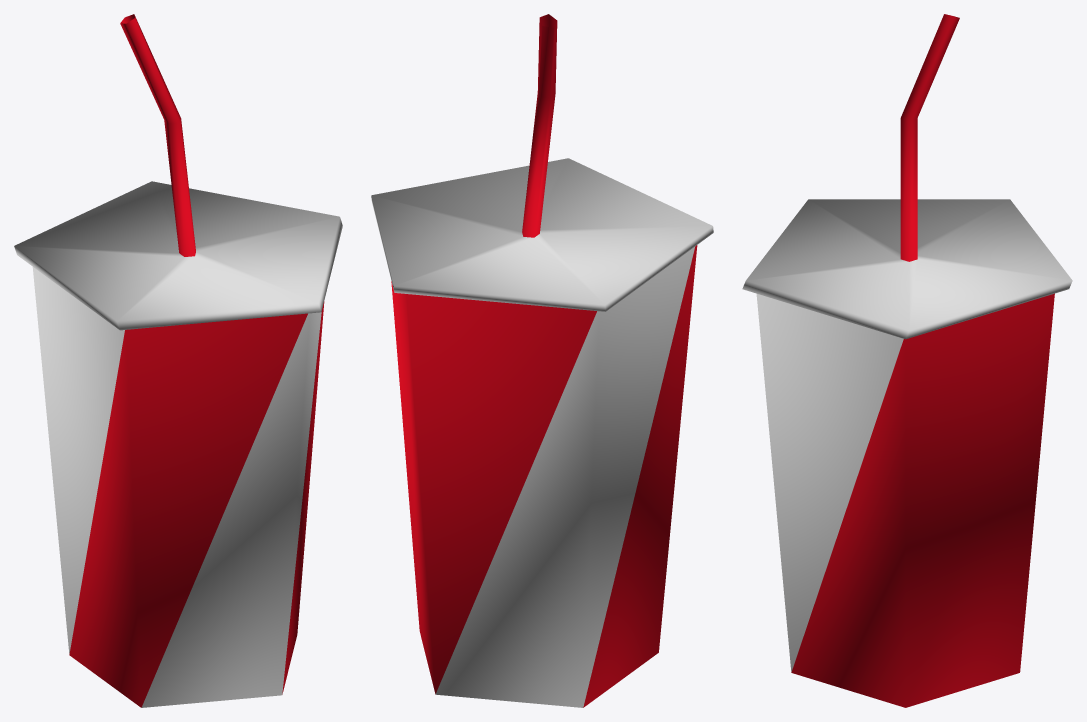
Rendered from Cup_Soda_01.fbx.
3 views of the same model, side by side, from view 1: azimuth 30°, elevation 25°; view 2: azimuth 150°, elevation 25°; view 3: azimuth 270°, elevation 25° (orthographic). The views are drawn at different scales.
Visible parts, largest first — view 1: SodaCup_02; view 2: SodaCup_02; view 3: SodaCup_02.
Part boxes in pixels (box(x1,y1,x2,y2)): SodaCup_02: box(14, 14, 342, 707); SodaCup_02: box(371, 14, 713, 707); SodaCup_02: box(742, 14, 1072, 707).
Bounding box in the file's own units: 0.1432 × 0.3166 × 0.1516.
